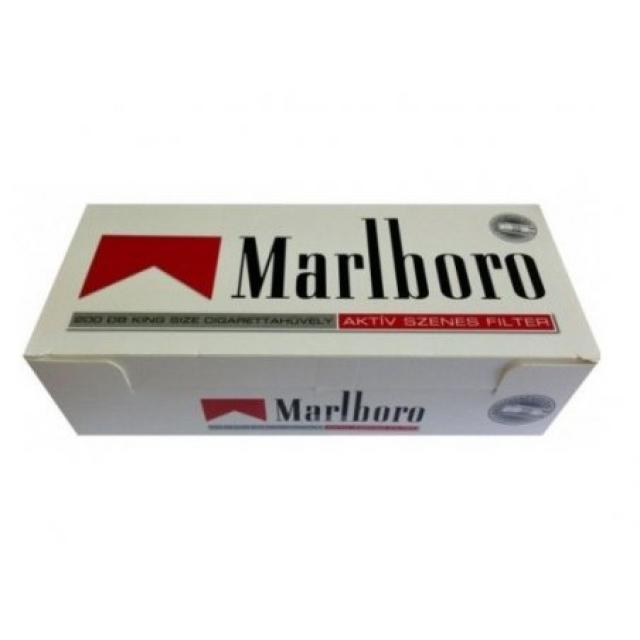marlboro: (31, 201, 600, 447)
